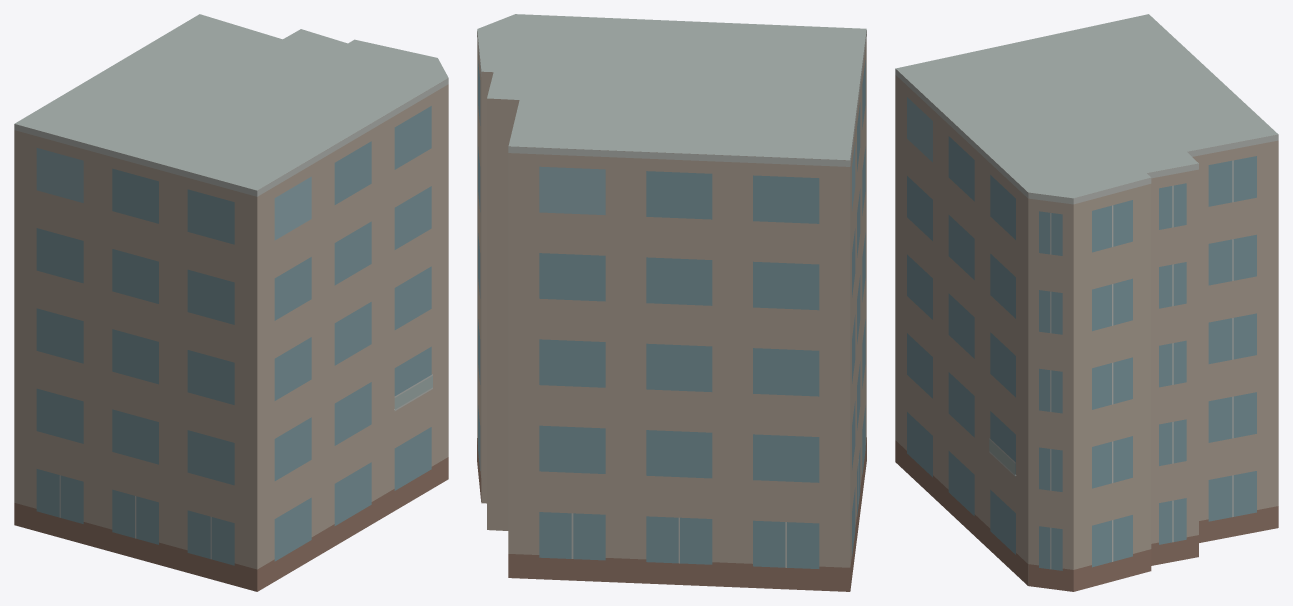
Rendered from survey-upis-32715293.glb.
3 views of the same model, side by side, from view 1: azimuth 30°, elevation 25°; view 2: azimuth 150°, elevation 25°; view 3: azimuth 270°, elevation 25° (orthographic). The views are drawn at different scales.
Parts seen in each view (by area): view 1: survey-upis-32715293.tmp; view 2: survey-upis-32715293.tmp; view 3: survey-upis-32715293.tmp.
Boxes of the visible parts, <box> form: survey-upis-32715293.tmp: <box>14,14,448,591</box>; survey-upis-32715293.tmp: <box>477,14,866,591</box>; survey-upis-32715293.tmp: <box>895,14,1278,591</box>.
Bounding box in the file's own units: 15.83 × 15.75 × 13.91.
